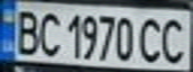0: (115, 12, 139, 62)
1: (60, 10, 81, 58)
7: (97, 11, 118, 62)
9: (78, 10, 100, 60)
B: (9, 6, 42, 56)
C: (154, 14, 193, 65), (136, 13, 166, 64), (33, 8, 63, 57)
